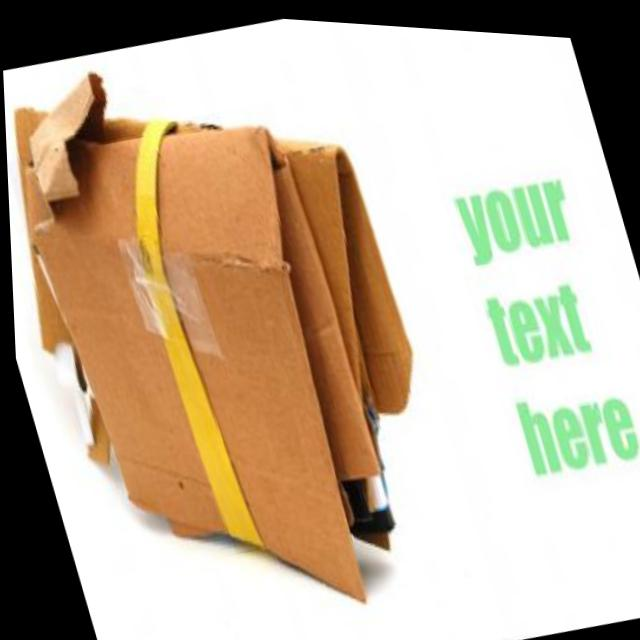box: (0, 6, 483, 640)
